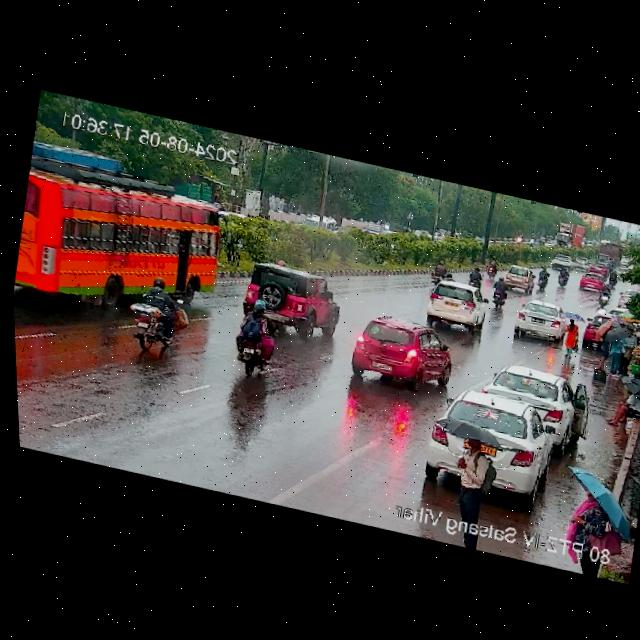bus: (8, 155, 243, 335)
car: (416, 376, 581, 513), (347, 307, 465, 396), (234, 258, 345, 343), (476, 357, 589, 438), (417, 274, 489, 333), (507, 296, 576, 347), (497, 261, 542, 295), (578, 308, 607, 350), (307, 210, 339, 237), (575, 271, 606, 295), (546, 251, 574, 271), (359, 220, 384, 239), (587, 260, 612, 278), (569, 255, 591, 272)
motorcycle: (219, 291, 286, 380), (125, 275, 190, 350), (425, 259, 461, 291), (488, 276, 515, 310), (596, 282, 615, 309), (536, 264, 554, 291), (464, 266, 486, 288), (554, 267, 572, 289), (484, 254, 500, 278), (609, 268, 618, 284)
person: (449, 429, 497, 510), (565, 484, 612, 548), (596, 319, 639, 379), (608, 380, 640, 432), (558, 316, 583, 356)
truck: (553, 220, 587, 252)
